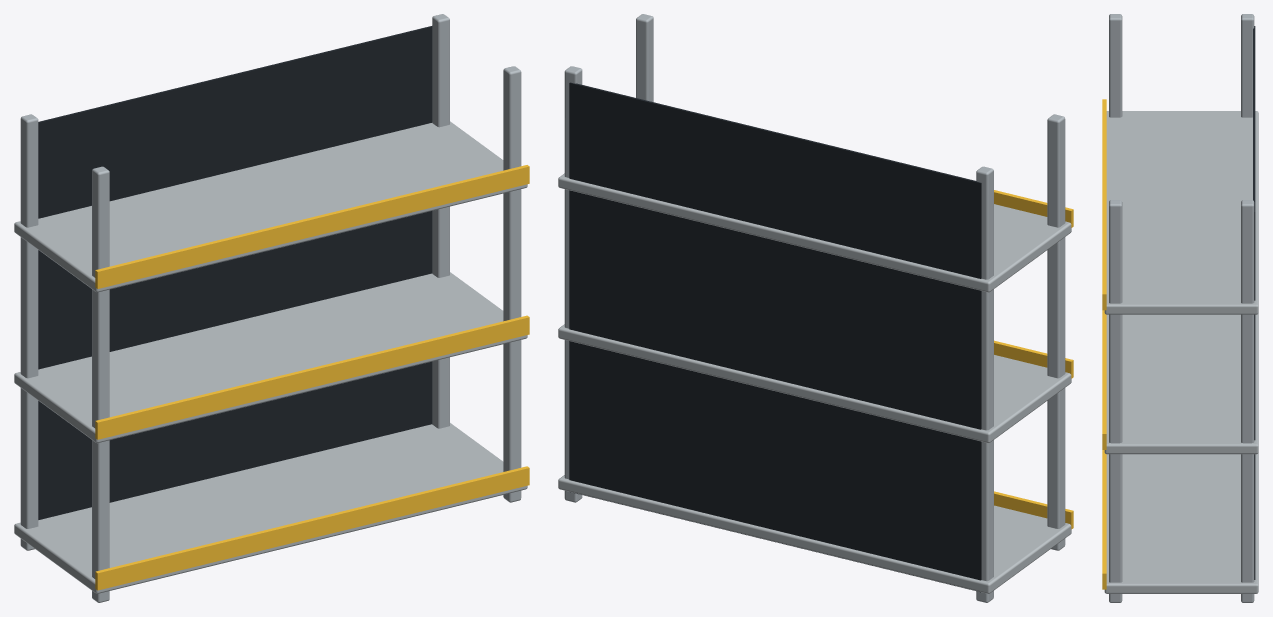
The model's file is stowage-rack.glb.
3 renders of one model, left to right at view 1: azimuth 30°, elevation 25°; view 2: azimuth 150°, elevation 25°; view 3: azimuth 270°, elevation 25°, orthographic. The views are drawn at different scales.
Parts seen in each view (by area): view 1: stowage-rack-dark-polymer, stowage-rack-panel-grey, stowage-rack-hazard-yellow, stowage-rack-aluminium; view 2: stowage-rack-dark-polymer, stowage-rack-panel-grey, stowage-rack-aluminium, stowage-rack-hazard-yellow; view 3: stowage-rack-panel-grey, stowage-rack-aluminium, stowage-rack-hazard-yellow, stowage-rack-dark-polymer.
Boxes of the visible parts, x1,y1,x2,y2 form: stowage-rack-dark-polymer: (38, 26, 432, 519); stowage-rack-panel-grey: (14, 121, 527, 593); stowage-rack-hazard-yellow: (95, 165, 529, 590); stowage-rack-aluminium: (20, 14, 521, 602); stowage-rack-dark-polymer: (569, 82, 981, 592); stowage-rack-panel-grey: (558, 173, 1071, 593); stowage-rack-aluminium: (564, 14, 1065, 602); stowage-rack-hazard-yellow: (994, 190, 1073, 529); stowage-rack-panel-grey: (1104, 111, 1258, 593); stowage-rack-aluminium: (1109, 14, 1254, 602); stowage-rack-hazard-yellow: (1102, 99, 1106, 589); stowage-rack-dark-polymer: (1253, 26, 1255, 579).
Bounding box in the file's own units: 2.1 × 2 × 0.71.
